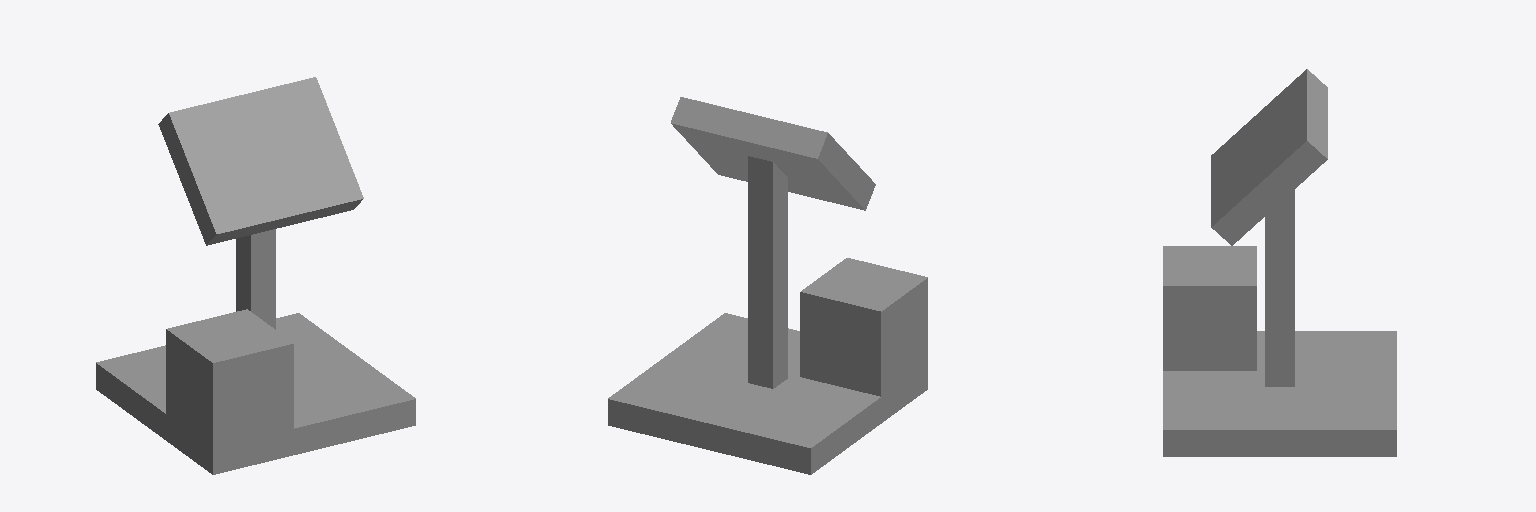
File: trader.obj
The picture shows the model from 3 angles: view 1: azimuth 30°, elevation 25°; view 2: azimuth 150°, elevation 25°; view 3: azimuth 270°, elevation 25°; orthographic projection.
Parts seen in each view (by area): view 1: Cube; view 2: Cube; view 3: Cube.
Boxes of the visible parts, <box> form: Cube: <box>96,77,415,474</box>; Cube: <box>608,97,927,474</box>; Cube: <box>1163,69,1396,456</box>.
Bounding box in the file's own units: 1 × 1.42 × 1.